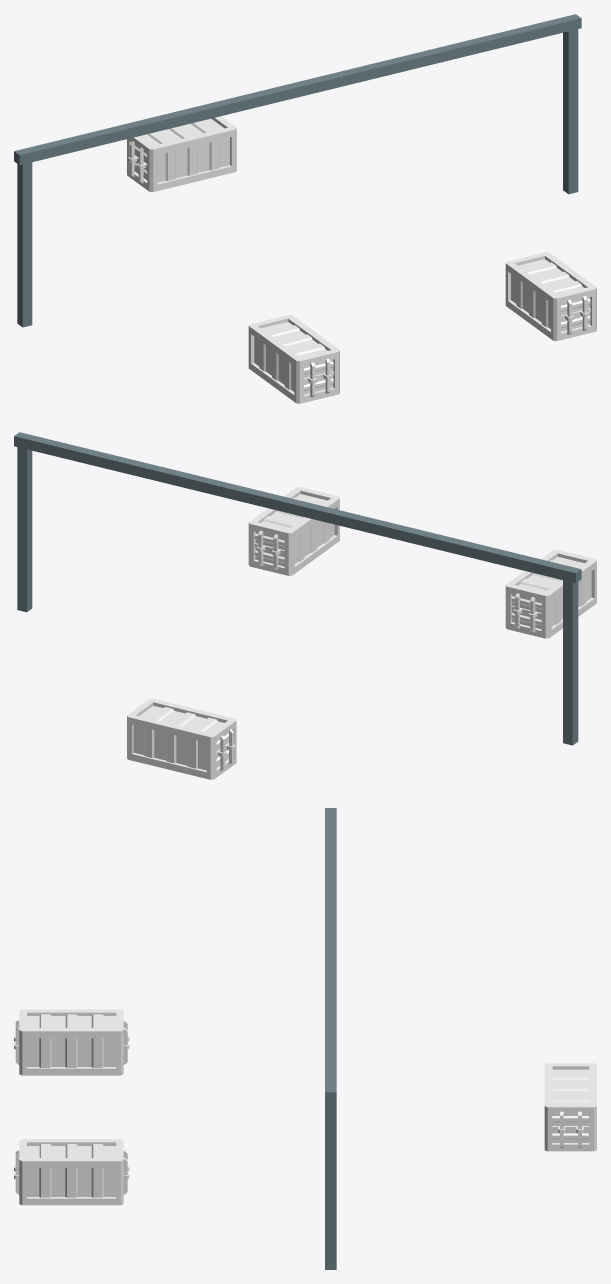
The model's file is urban-2-0.glb.
The picture shows the model from 3 angles, top to bottom: view 1: azimuth 30°, elevation 25°; view 2: azimuth 150°, elevation 25°; view 3: azimuth 270°, elevation 25°; orthographic projection. The views are drawn at different scales.
Visible parts, largest first — view 1: urban-2-0; view 2: urban-2-0; view 3: urban-2-0.
Boxes of the visible parts, left/top/right/bottom form: urban-2-0: left=14, top=14, right=596, bottom=403; urban-2-0: left=14, top=432, right=596, bottom=779; urban-2-0: left=14, top=808, right=596, bottom=1269.
Bounding box in the file's own units: 70 × 20.6 × 60.72.
